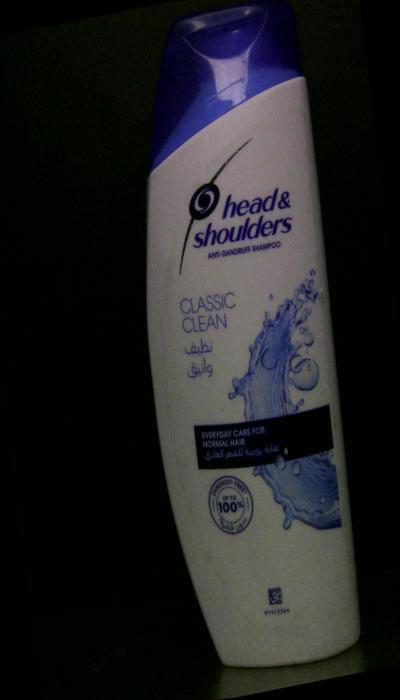tear_marg: (190, 530, 231, 582)
